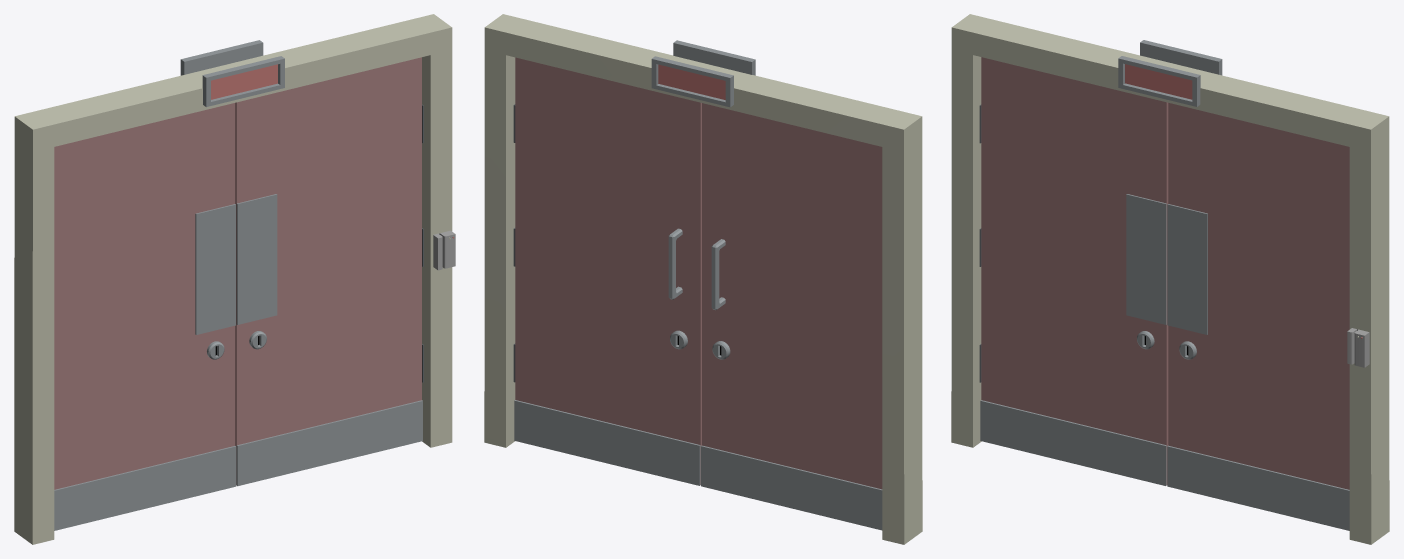
File: Office_Double_Doors.fbx
3 views of the same model, side by side, from view 1: azimuth 30°, elevation 25°; view 2: azimuth 150°, elevation 25°; view 3: azimuth 330°, elevation 25° (orthographic).
Parts seen in each view (by area): view 1: pCylinder131, pCylinder130, pCube98; view 2: pCylinder131, pCylinder130, pCube98; view 3: pCylinder130, pCylinder131, pCube98.
Part boxes in pixels (box(x1,y1,x2,y2)): pCylinder131: box(235, 57, 422, 486); pCylinder130: box(54, 103, 236, 530); pCube98: box(14, 14, 455, 544); pCylinder131: box(514, 57, 701, 485); pCylinder130: box(701, 103, 882, 530); pCube98: box(484, 14, 922, 544); pCylinder130: box(980, 57, 1168, 485); pCylinder131: box(1167, 103, 1349, 530); pCube98: box(951, 14, 1389, 544).
Bounding box in the file's own units: 2.24 × 2.18 × 0.2552.
